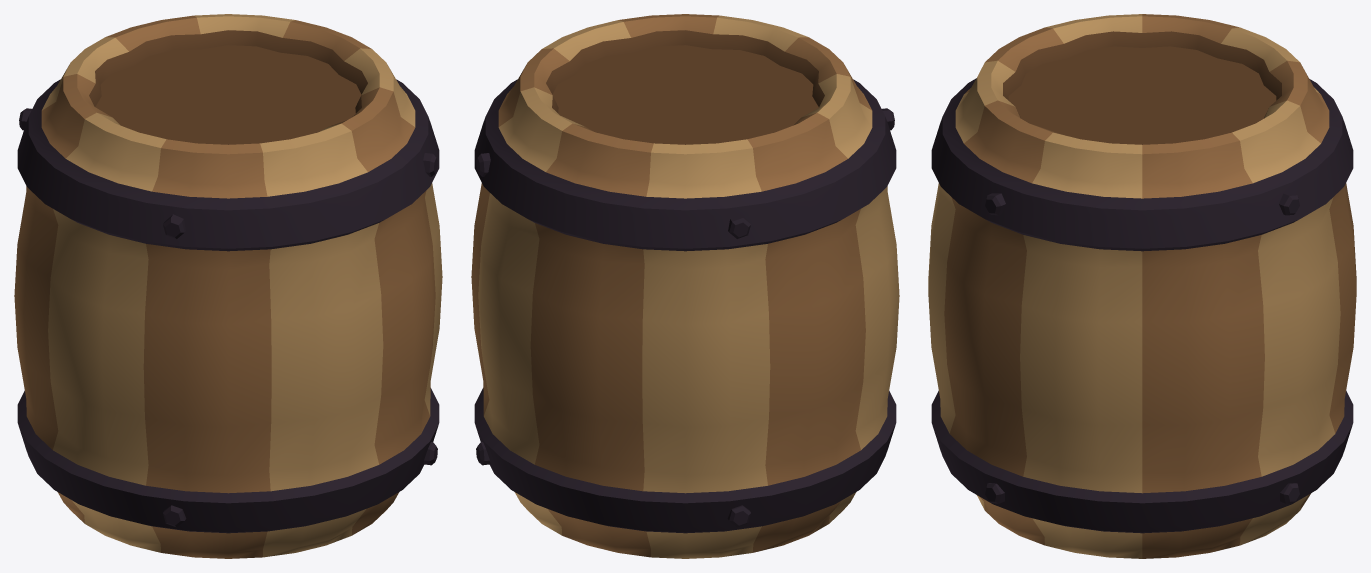
The model's file is Barrel_08.glb.
The picture shows the model from 3 angles, left to right: view 1: azimuth 30°, elevation 25°; view 2: azimuth 150°, elevation 25°; view 3: azimuth 270°, elevation 25°; orthographic projection.
Visible parts, largest first — view 1: Barrel_08; view 2: Barrel_08; view 3: Barrel_08.
Part boxes in pixels (x1,y1,x2,y2): Barrel_08: [14, 14, 442, 558]; Barrel_08: [471, 14, 899, 558]; Barrel_08: [928, 14, 1356, 558].
Size of the model in its own units: 2.15 by 2.31 by 2.18.
